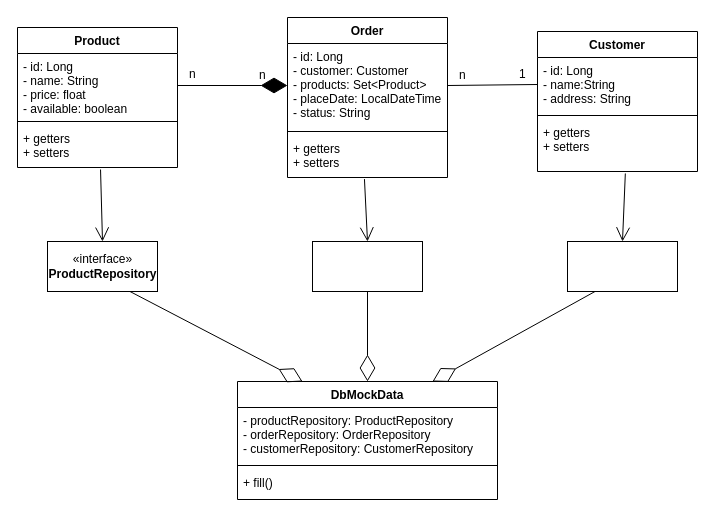
Some shapes in this 715 by 520 pixel diagram are drawn without their labels. The shapes that lost their labels are listed below. From the top down, each one's centre as x and y in pixels, then its label:
point (367, 266): «interface» OrderRepository
point (622, 266): «interface» CutomerRepository
